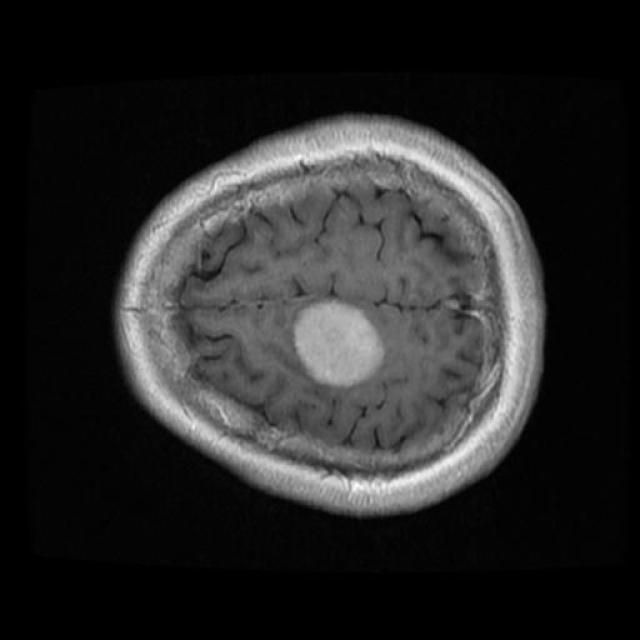Meningioma: (293, 298, 384, 387)
